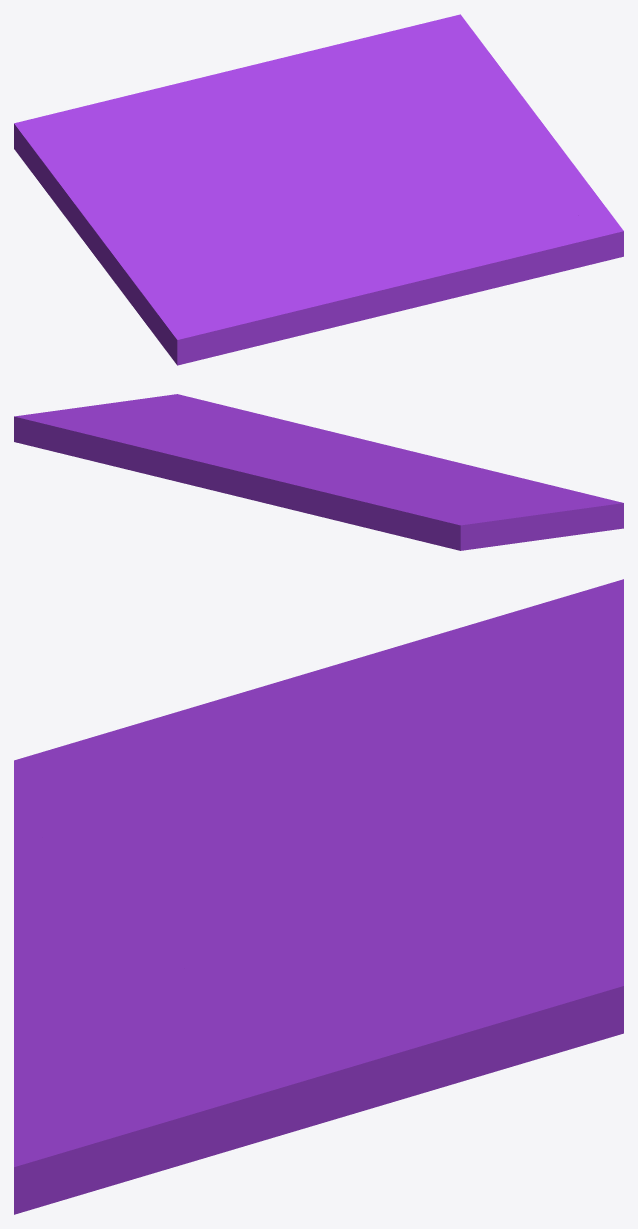
File: Window_150_chunks.fbx
3 renders of one model, top to bottom at view 1: azimuth 30°, elevation 25°; view 2: azimuth 150°, elevation 25°; view 3: azimuth 270°, elevation 25°, orthographic. The views are drawn at different scales.
Visible parts, largest first — view 1: Window_150_1, Window_150_2, Window_150_5, Window_150_6, Window_150_0, Window_150_3, Window_150_4; view 2: Window_150_1, Window_150_2, Window_150_0, Window_150_5, Window_150_6, Window_150_3; view 3: Window_150_2, Window_150_1, Window_150_5, Window_150_6, Window_150_0, Window_150_3.
Part boxes in pixels (<box>): Window_150_1: <box>14,103,329,365</box>; Window_150_2: <box>260,14,615,220</box>; Window_150_5: <box>222,224,507,354</box>; Window_150_6: <box>411,195,623,278</box>; Window_150_0: <box>98,63,297,156</box>; Window_150_3: <box>274,185,419,287</box>; Window_150_4: <box>453,268,532,298</box>; Window_150_1: <box>308,458,623,550</box>; Window_150_2: <box>14,395,321,484</box>; Window_150_0: <box>191,463,434,544</box>; Window_150_5: <box>294,422,543,483</box>; Window_150_6: <box>169,394,308,439</box>; Window_150_3: <box>279,440,488,477</box>; Window_150_2: <box>44,803,623,1192</box>; Window_150_1: <box>14,579,623,883</box>; Window_150_5: <box>14,832,147,1060</box>; Window_150_6: <box>14,962,221,1214</box>; Window_150_0: <box>381,655,623,850</box>; Window_150_3: <box>82,845,292,974</box>.
Size of the model in its own units: 1838 by 482 by 1165.
